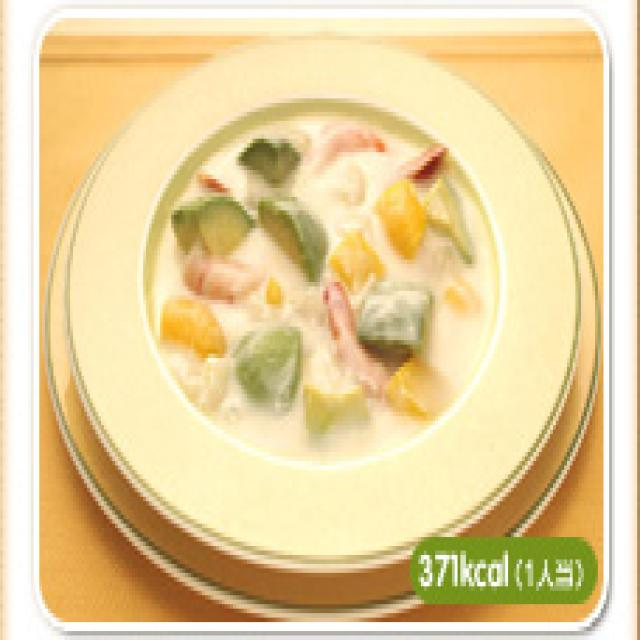汤锅炖物: (51, 36, 576, 519)
